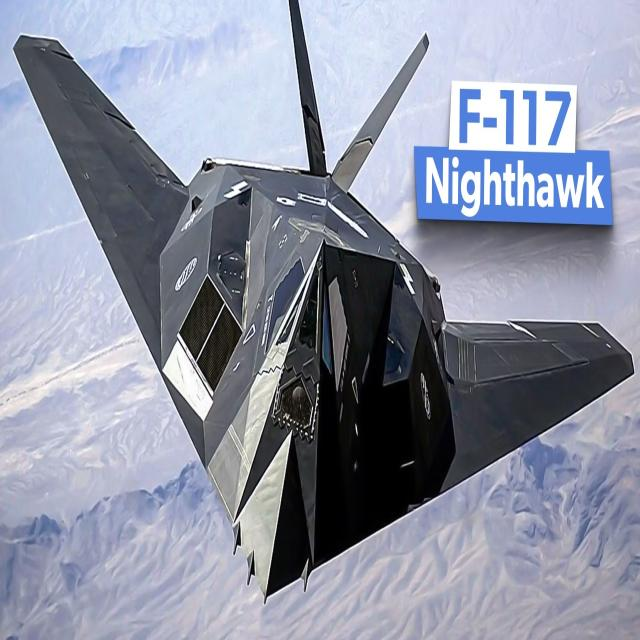F117: (1, 0, 640, 613)
